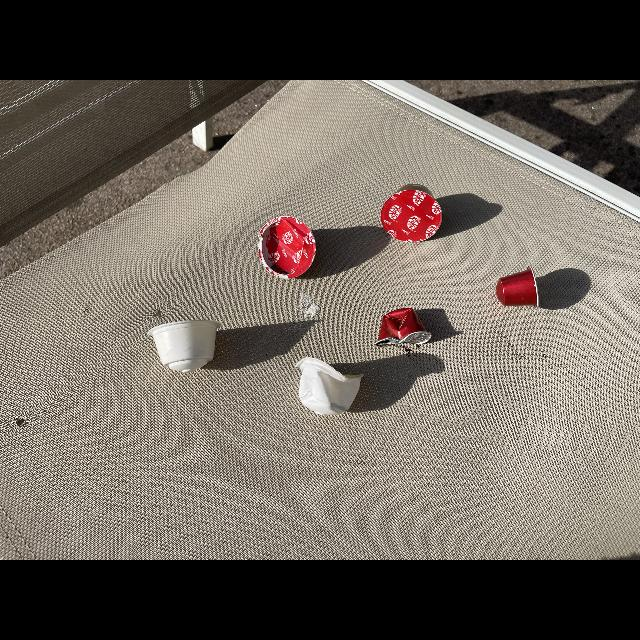damaged_capsule: (289, 354, 366, 418), (256, 214, 320, 280), (373, 306, 439, 349)
intact_capsule: (146, 315, 220, 377), (378, 182, 447, 244), (493, 263, 545, 313)
